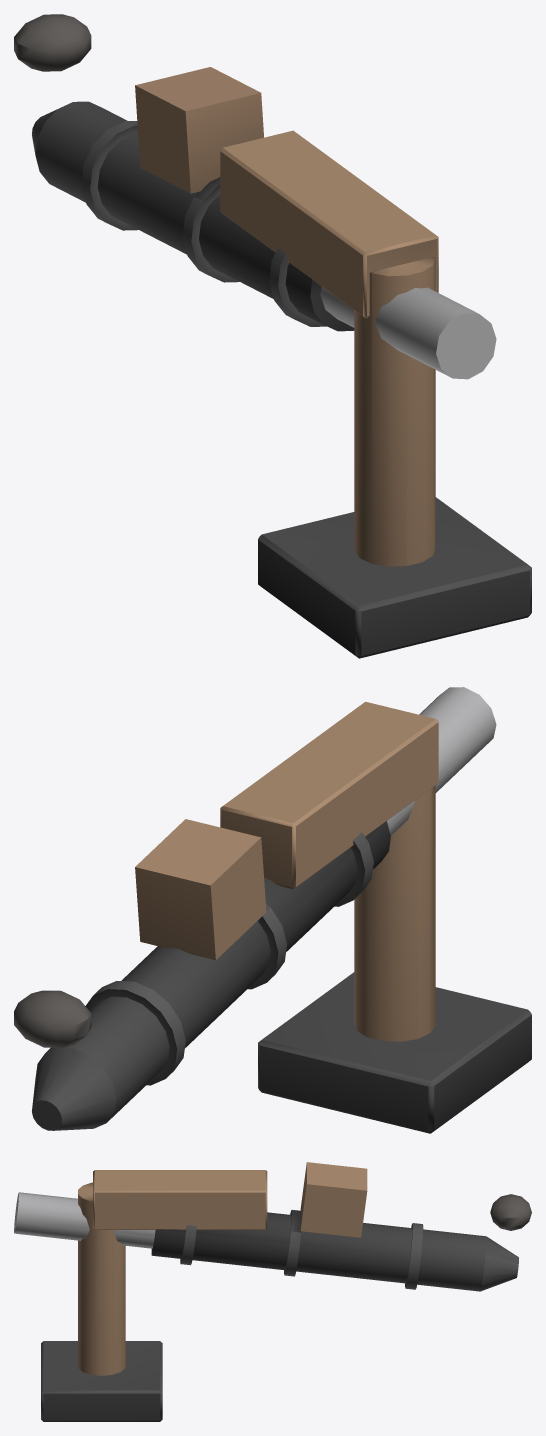
File: mud_gun.glb
The picture shows the model from 3 angles, top to bottom: view 1: azimuth 30°, elevation 25°; view 2: azimuth 150°, elevation 25°; view 3: azimuth 270°, elevation 25°; orthographic projection. The views are drawn at different scales.
Parts seen in each view (by area): view 1: static; view 2: static; view 3: static.
Part boxes in pixels (x1,y1,x2,y2): static: (14, 14, 531, 658); static: (14, 687, 531, 1133); static: (14, 1162, 531, 1421).
Bounding box in the file's own units: 0.7 × 1.42 × 2.97.
